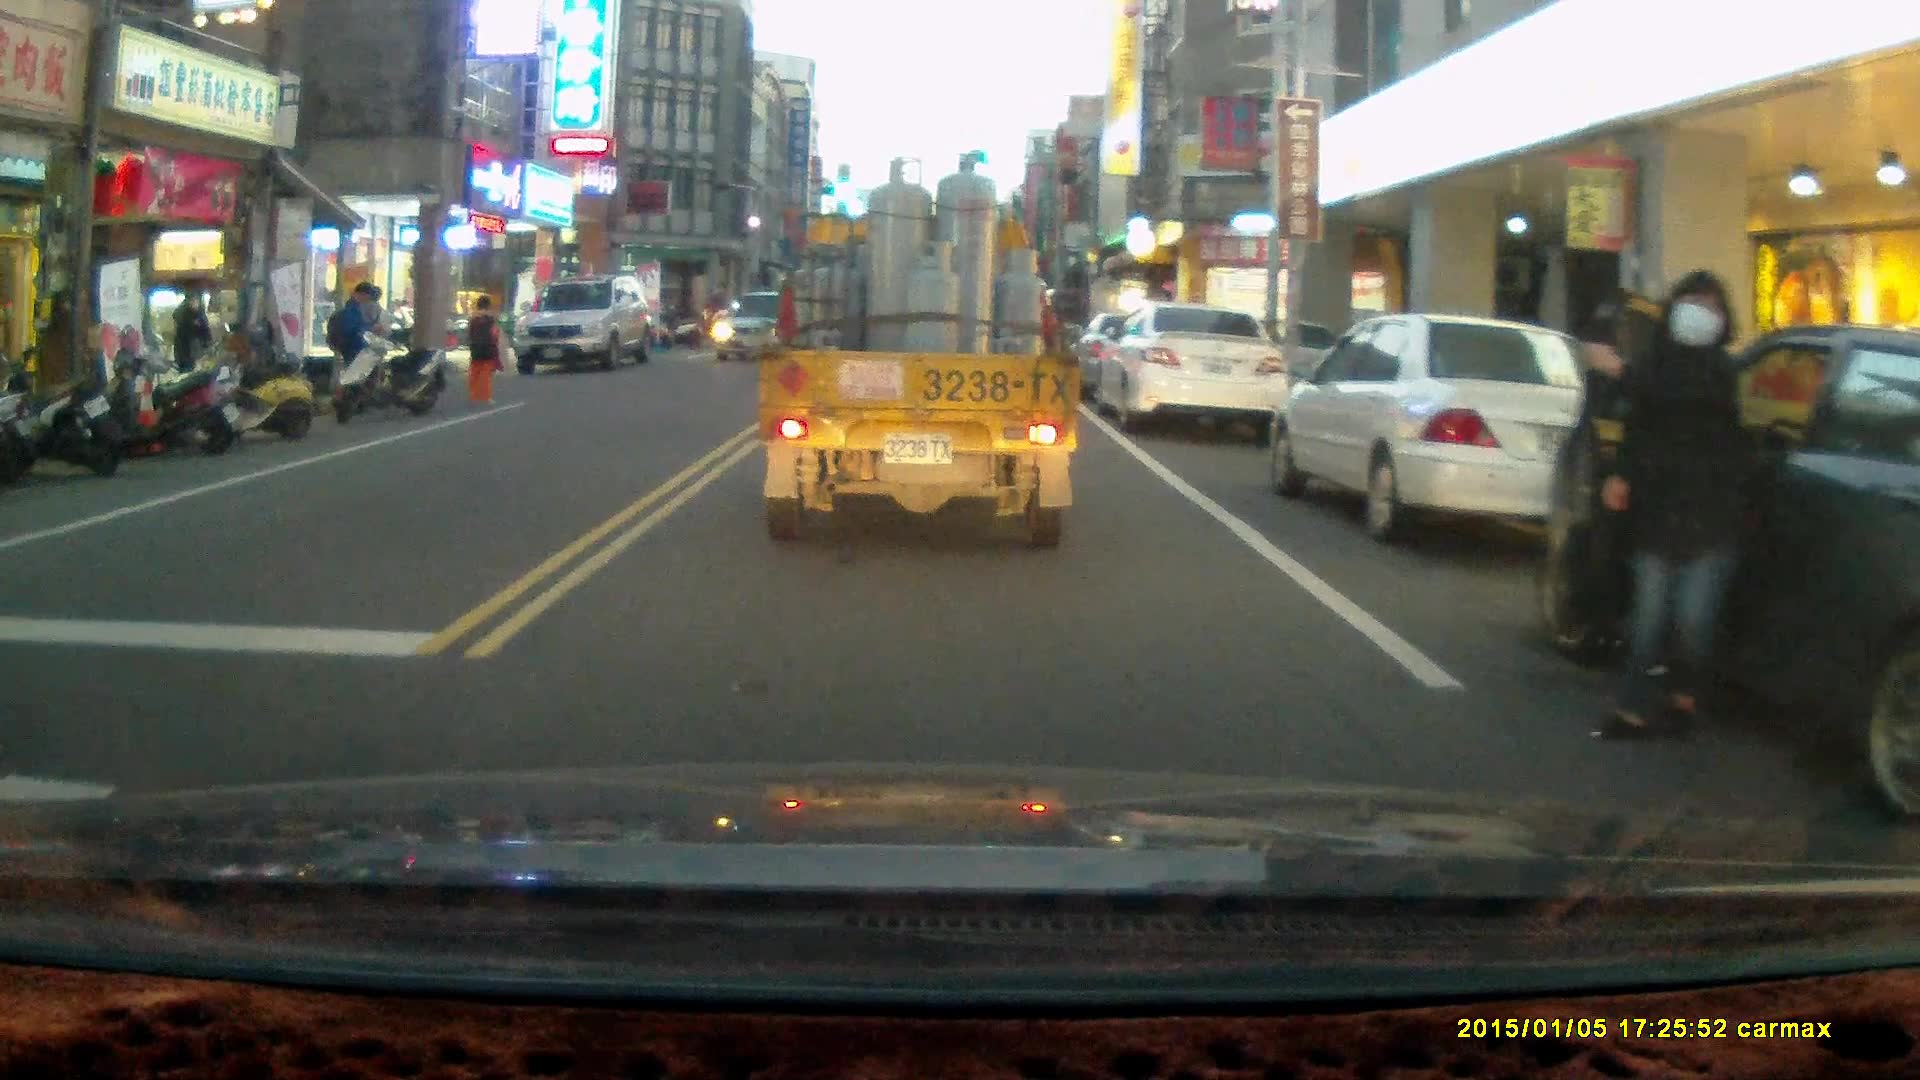pedestrian: (1586, 271, 1751, 744), (321, 280, 374, 411), (170, 285, 213, 420), (465, 292, 505, 408)
vehicle: (1533, 320, 1920, 790), (752, 150, 1085, 550), (1263, 314, 1655, 544), (1096, 304, 1289, 431), (514, 278, 659, 374), (711, 290, 799, 365)
